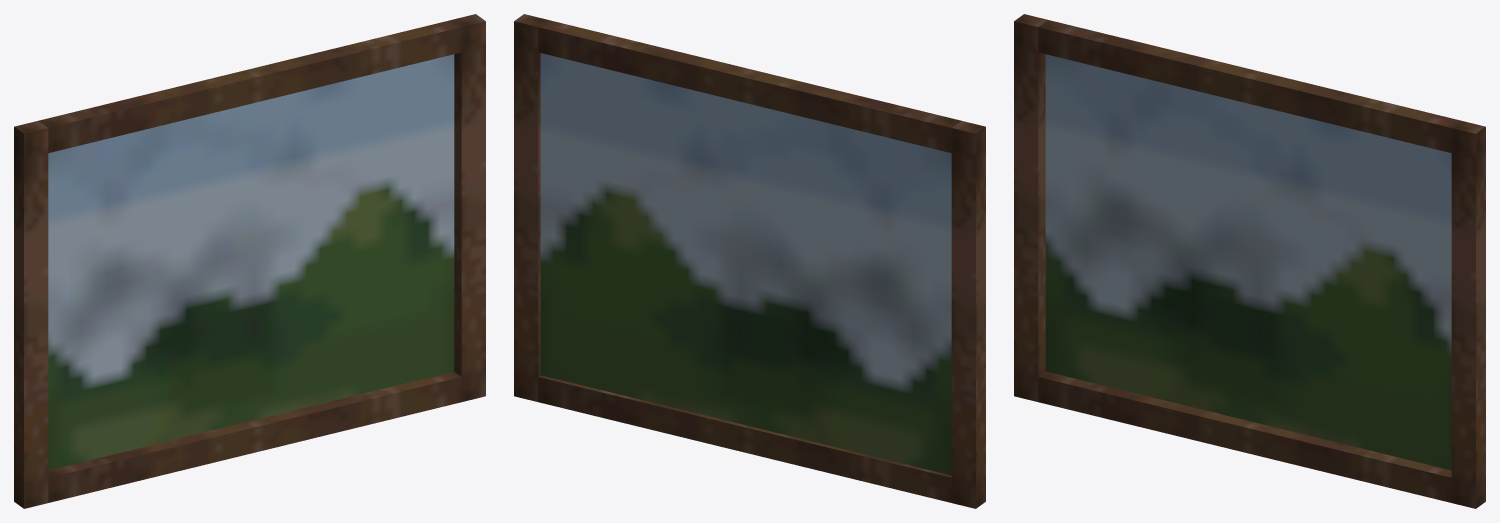
File: picture_landscape.obj
3 views of the same model, side by side, from view 1: azimuth 30°, elevation 25°; view 2: azimuth 150°, elevation 25°; view 3: azimuth 330°, elevation 25° (orthographic).
Visible parts, largest first — view 1: picture_landscape; view 2: picture_landscape; view 3: picture_landscape.
Part boxes in pixels (<box>): picture_landscape: <box>14,14,485,508</box>; picture_landscape: <box>514,14,985,508</box>; picture_landscape: <box>1014,14,1485,508</box>.
Bounding box in the file's own units: 0.67 × 0.52 × 0.025.
1 material, 1 textured.
